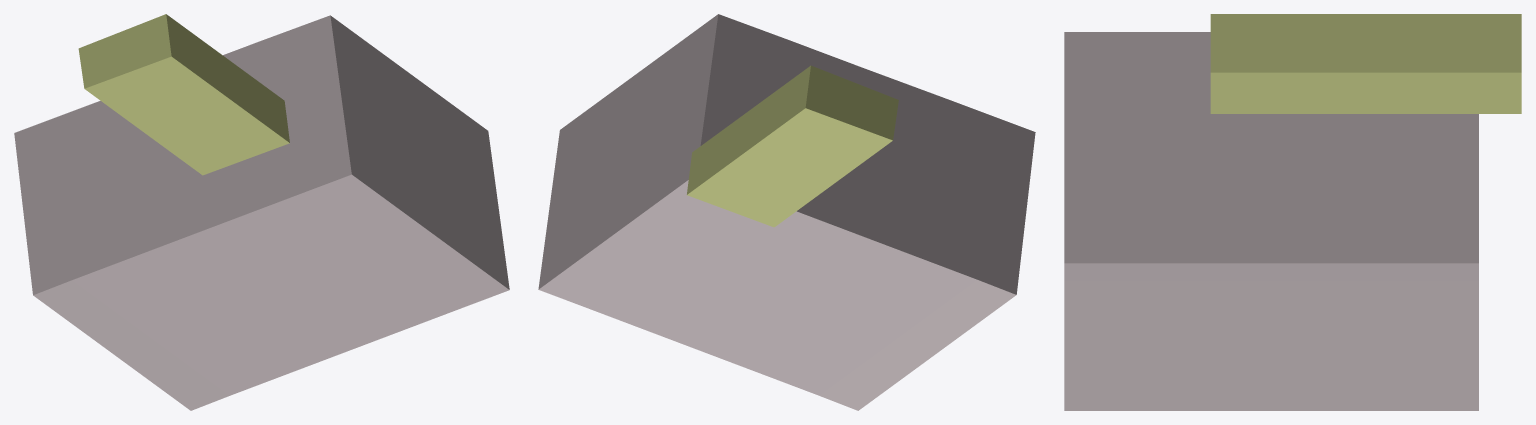
3 renders of one model, left to right at view 1: azimuth 30°, elevation 25°; view 2: azimuth 150°, elevation 25°; view 3: azimuth 270°, elevation 25°, orthographic. The views are drawn at different scales.
Parts seen in each view (by area): view 1: 0_1_3_2_2_2_2_1_2_0; view 2: 0_1_3_2_2_2_2_1_2_0; view 3: 0_1_3_2_2_2_2_1_2_0.
Boxes of the visible parts, bbox=[...] form: 0_1_3_2_2_2_2_1_2_0: bbox=[14, 14, 509, 410]; 0_1_3_2_2_2_2_1_2_0: bbox=[538, 14, 1035, 410]; 0_1_3_2_2_2_2_1_2_0: bbox=[1064, 14, 1521, 410].
Size of the model in its own units: 14.81 by 9.77 by 13.23.
